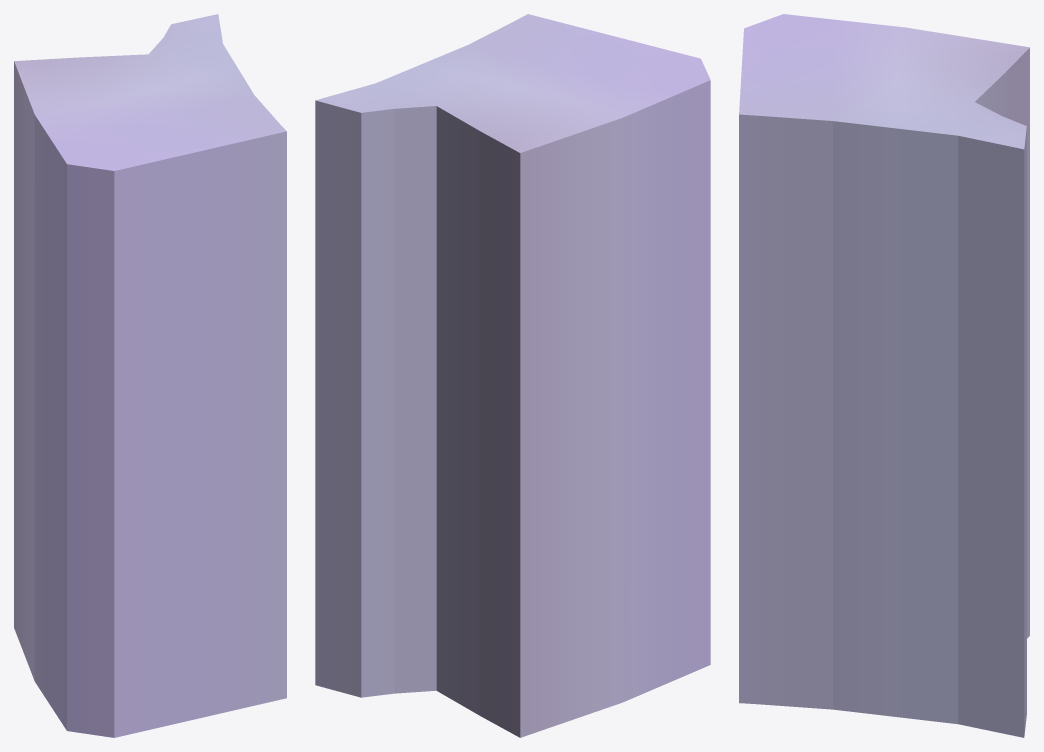
Rendered from bradley_beach.glb.
3 renders of one model, left to right at view 1: azimuth 30°, elevation 25°; view 2: azimuth 150°, elevation 25°; view 3: azimuth 270°, elevation 25°, orthographic. The views are drawn at different scales.
Visible parts, largest first — view 1: Plane.064; view 2: Plane.064; view 3: Plane.064.
Part boxes in pixels (box(x1,y1,x2,y2)): Plane.064: box(14, 14, 286, 737); Plane.064: box(315, 14, 710, 737); Plane.064: box(739, 14, 1029, 737).
Size of the model in its own units: 0.1903 by 0.3856 by 0.1728.
Materials: 1 (1 with a texture image).
